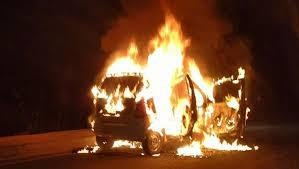fire: (88, 10, 256, 146)
